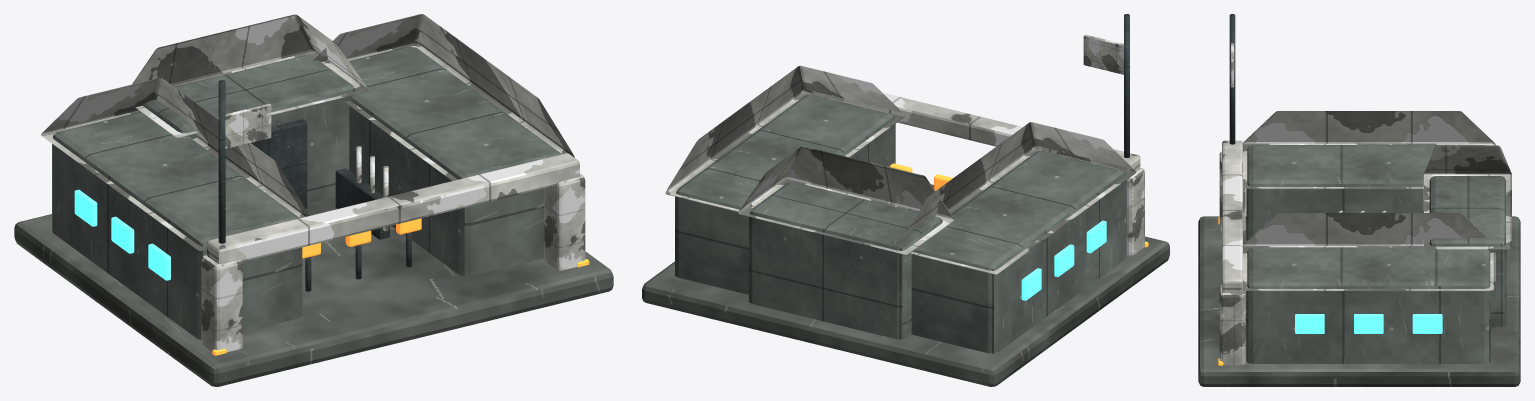
Rendered from barracks.glb.
3 renders of one model, left to right at view 1: azimuth 30°, elevation 25°; view 2: azimuth 150°, elevation 25°; view 3: azimuth 270°, elevation 25°, orthographic. The views are drawn at different scales.
Visible parts, largest first — view 1: barracks_factory_metal, barracks_team_primary, barracks_concrete_dark, barracks_armor_dark, barracks_team_accent, barracks_glass_emissive, barracks_warning_emissive; view 2: barracks_factory_metal, barracks_team_primary, barracks_concrete_dark, barracks_glass_emissive, barracks_team_accent, barracks_armor_dark; view 3: barracks_factory_metal, barracks_team_primary, barracks_concrete_dark, barracks_glass_emissive, barracks_armor_dark.
Part boxes in pixels (x1=…): barracks_factory_metal: x1=52, y1=46, x2=561, y2=339; barracks_team_primary: x1=41, y1=14, x2=585, y2=352; barracks_concrete_dark: x1=14, y1=198, x2=613, y2=386; barracks_armor_dark: x1=218, y1=80, x2=411, y2=291; barracks_team_accent: x1=225, y1=103, x2=388, y2=231; barracks_glass_emissive: x1=74, y1=189, x2=170, y2=280; barracks_warning_emissive: x1=212, y1=218, x2=589, y2=355; barracks_factory_metal: x1=675, y1=94, x2=1126, y2=353; barracks_team_primary: x1=665, y1=65, x2=1144, y2=274; barracks_concrete_dark: x1=642, y1=184, x2=1169, y2=386; barracks_glass_emissive: x1=1021, y1=220, x2=1106, y2=300; barracks_team_accent: x1=1083, y1=34, x2=1123, y2=74; barracks_armor_dark: x1=1124, y1=14, x2=1129, y2=157; barracks_factory_metal: x1=1246, y1=145, x2=1506, y2=363; barracks_team_primary: x1=1219, y1=111, x2=1511, y2=364; barracks_concrete_dark: x1=1198, y1=216, x2=1520, y2=386; barracks_glass_emissive: x1=1295, y1=314, x2=1442, y2=333; barracks_armor_dark: x1=1229, y1=14, x2=1423, y2=212.
Size of the model in its own units: 5 by 3.4 by 4.33.
Materials: 7 (5 with a texture image).
